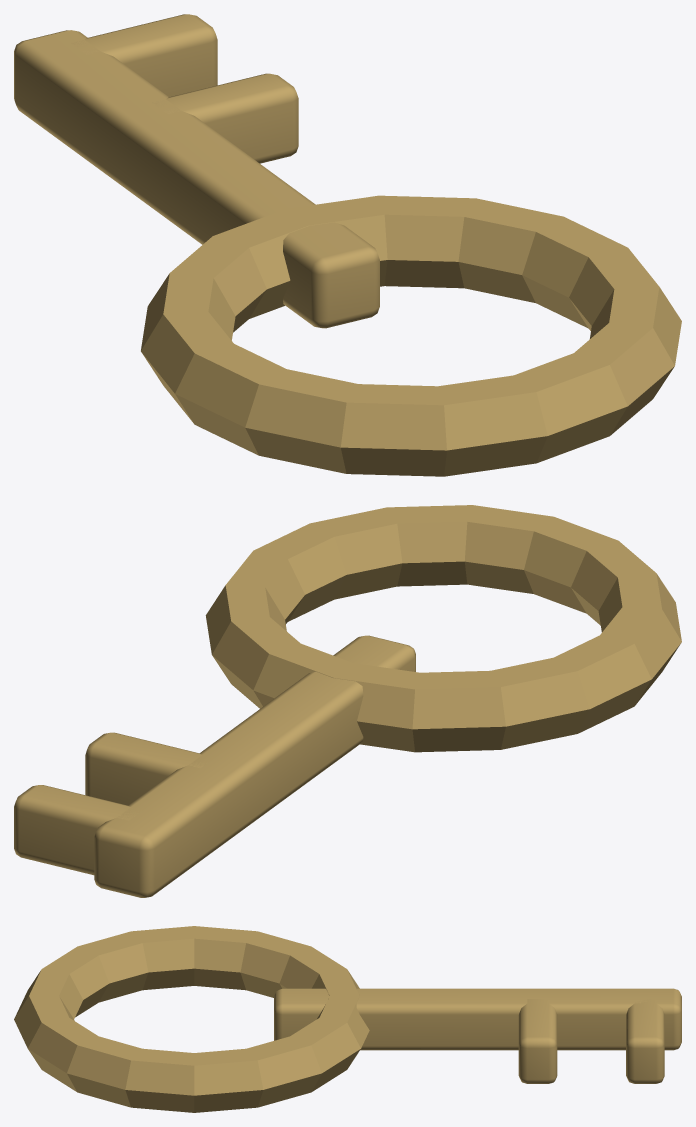
Rendered from WarehouseKey.fbx.
3 renders of one model, top to bottom at view 1: azimuth 30°, elevation 25°; view 2: azimuth 150°, elevation 25°; view 3: azimuth 270°, elevation 25°, orthographic. The views are drawn at different scales.
Parts seen in each view (by area): view 1: KeyRing, KeyShaft, KeyTooth, KeyTooth.001; view 2: KeyRing, KeyShaft, KeyTooth.001, KeyTooth; view 3: KeyRing, KeyShaft, KeyTooth, KeyTooth.001.
Part boxes in pixels (bbox=[...]): KeyRing: bbox=[141, 195, 681, 476]; KeyShaft: bbox=[14, 30, 379, 328]; KeyTooth: bbox=[152, 73, 298, 163]; KeyTooth.001: bbox=[71, 14, 217, 97]; KeyRing: bbox=[205, 505, 681, 752]; KeyShaft: bbox=[94, 635, 415, 897]; KeyTooth.001: bbox=[14, 785, 141, 875]; KeyTooth: bbox=[85, 732, 206, 805]; KeyRing: bbox=[14, 926, 369, 1112]; KeyShaft: bbox=[274, 988, 681, 1050]; KeyTooth: bbox=[518, 999, 557, 1083]; KeyTooth.001: bbox=[626, 999, 664, 1083].
Bounding box in the file's own units: 8.4 × 1.21 × 15.55.
